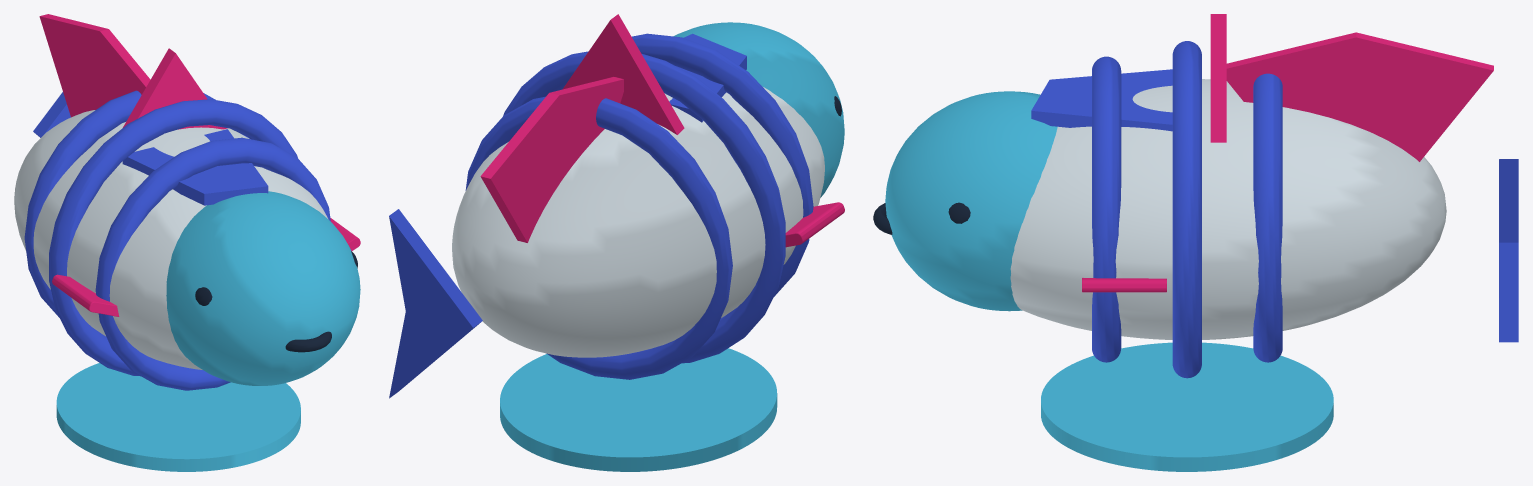
File: 0491_鱼类图鉴_鳕鱼.glb
3 views of the same model, side by side, from view 1: azimuth 30°, elevation 25°; view 2: azimuth 150°, elevation 25°; view 3: azimuth 270°, elevation 25° (orthographic). The views are drawn at different scales.
Visible parts, largest first — view 1: card_0491; view 2: card_0491; view 3: card_0491.
Part boxes in pixels (x1,y1,x2,y2): card_0491: (14,14,360,471); card_0491: (389,14,844,471); card_0491: (873,14,1518,471).
Bounding box in the file's own units: 0.7988 × 1 × 1.45.
